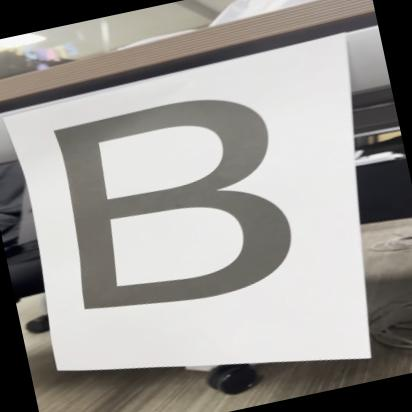seat: (40, 78, 317, 341)
